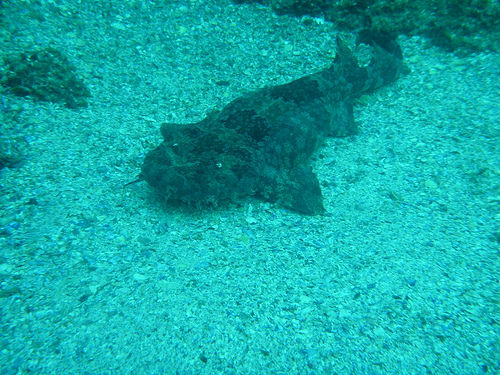shark: (113, 16, 416, 229)
